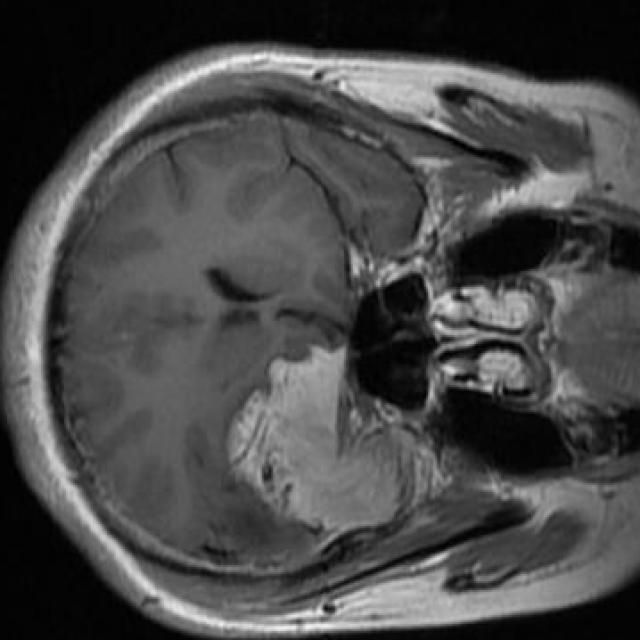meningioma: (226, 346, 439, 533)
